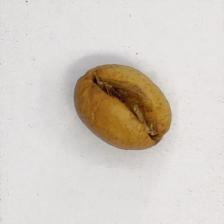NG: (76, 65, 166, 147)
